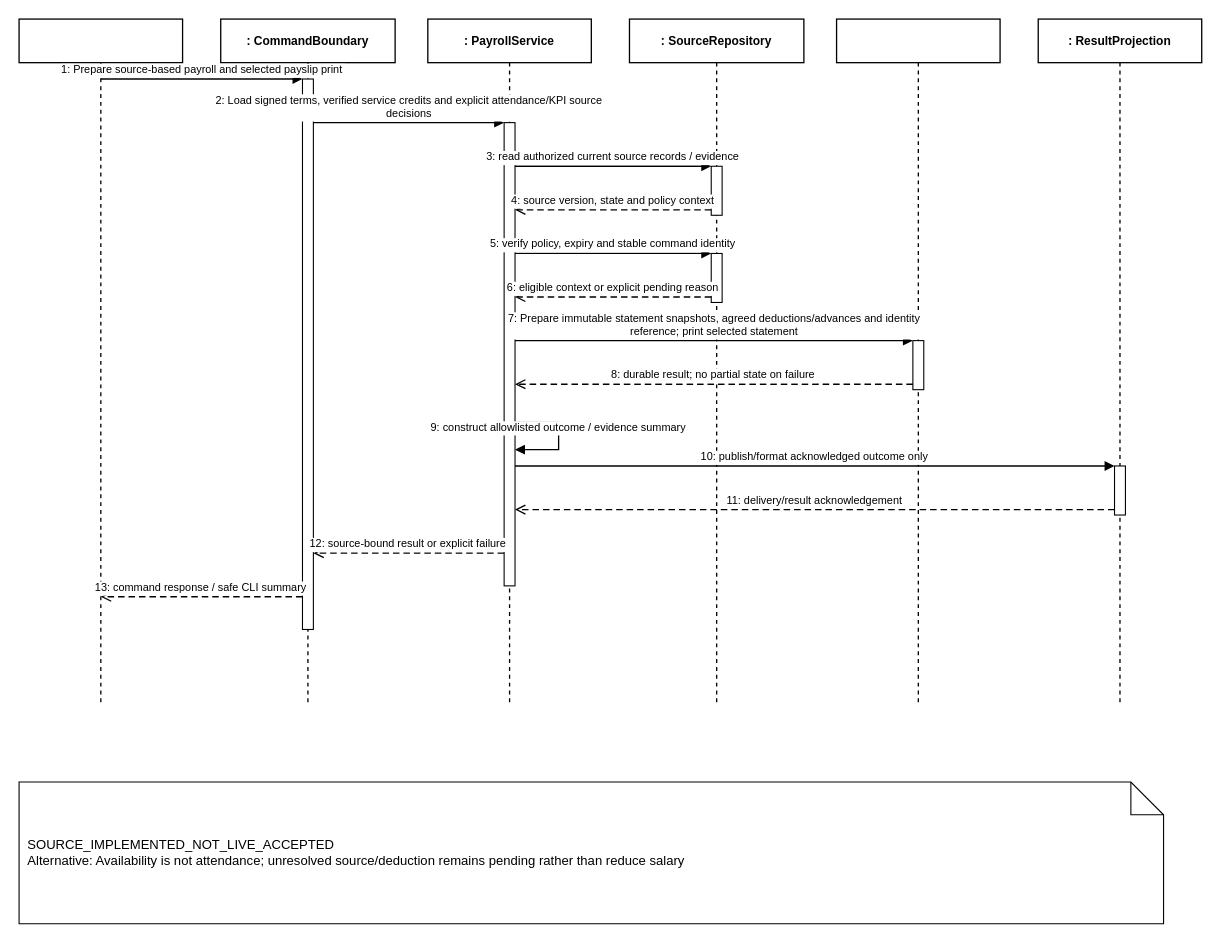
The diagram is 1222 pixels wide and 944 high, and some of its shapes have lost their labels. Each missing label, with the box of its shape:
: GuardedPersistence: (835, 18, 1000, 706)
Actor (Admin): (18, 18, 183, 706)
